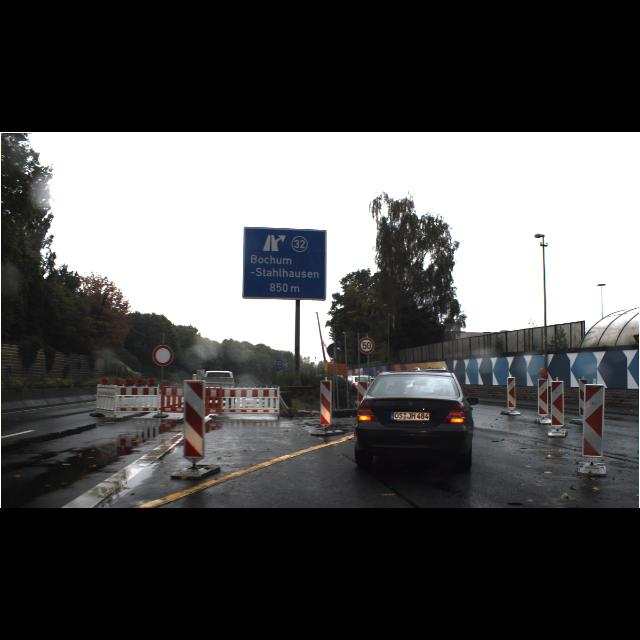prohibitory: (152, 346, 174, 366), (358, 336, 374, 354)
